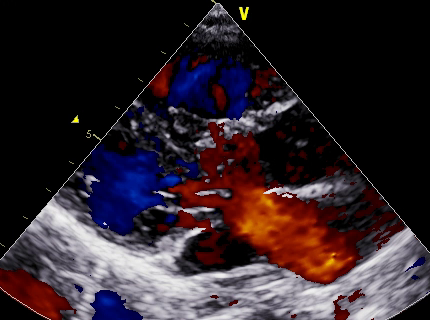AR: (181, 125, 279, 214)
